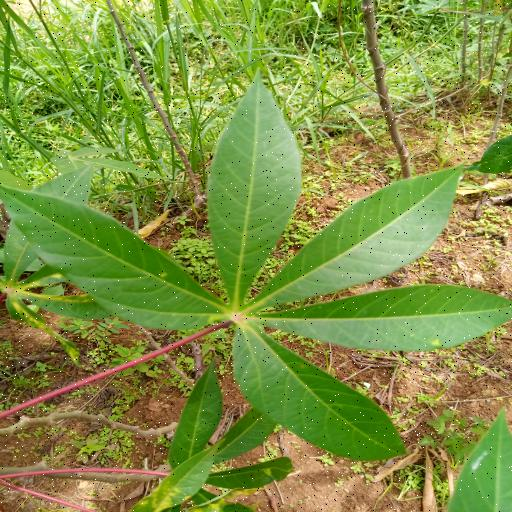Cassava_Healthy: (0, 74, 507, 460)
